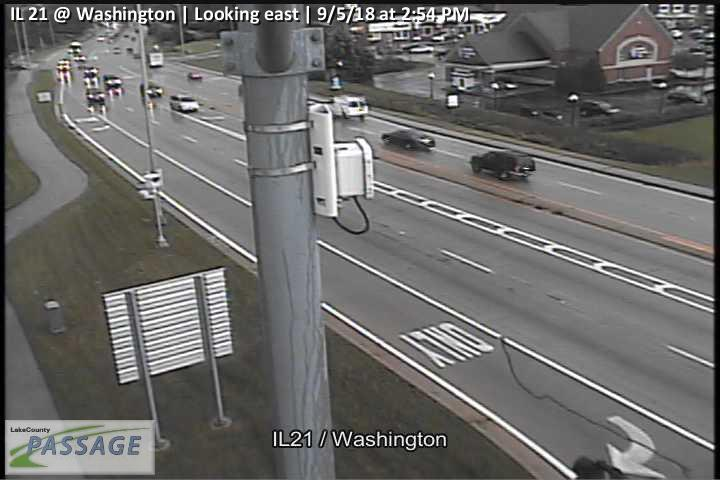SUV: (470, 149, 536, 180), (330, 95, 368, 120), (169, 93, 199, 112), (139, 80, 163, 97)
Sedan: (381, 127, 436, 151)
